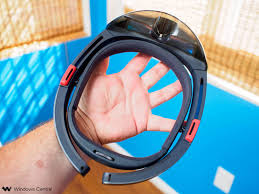hololens: (52, 5, 211, 183)
